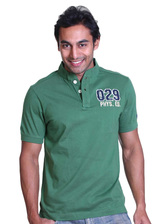clothoes: (18, 60, 139, 216)
